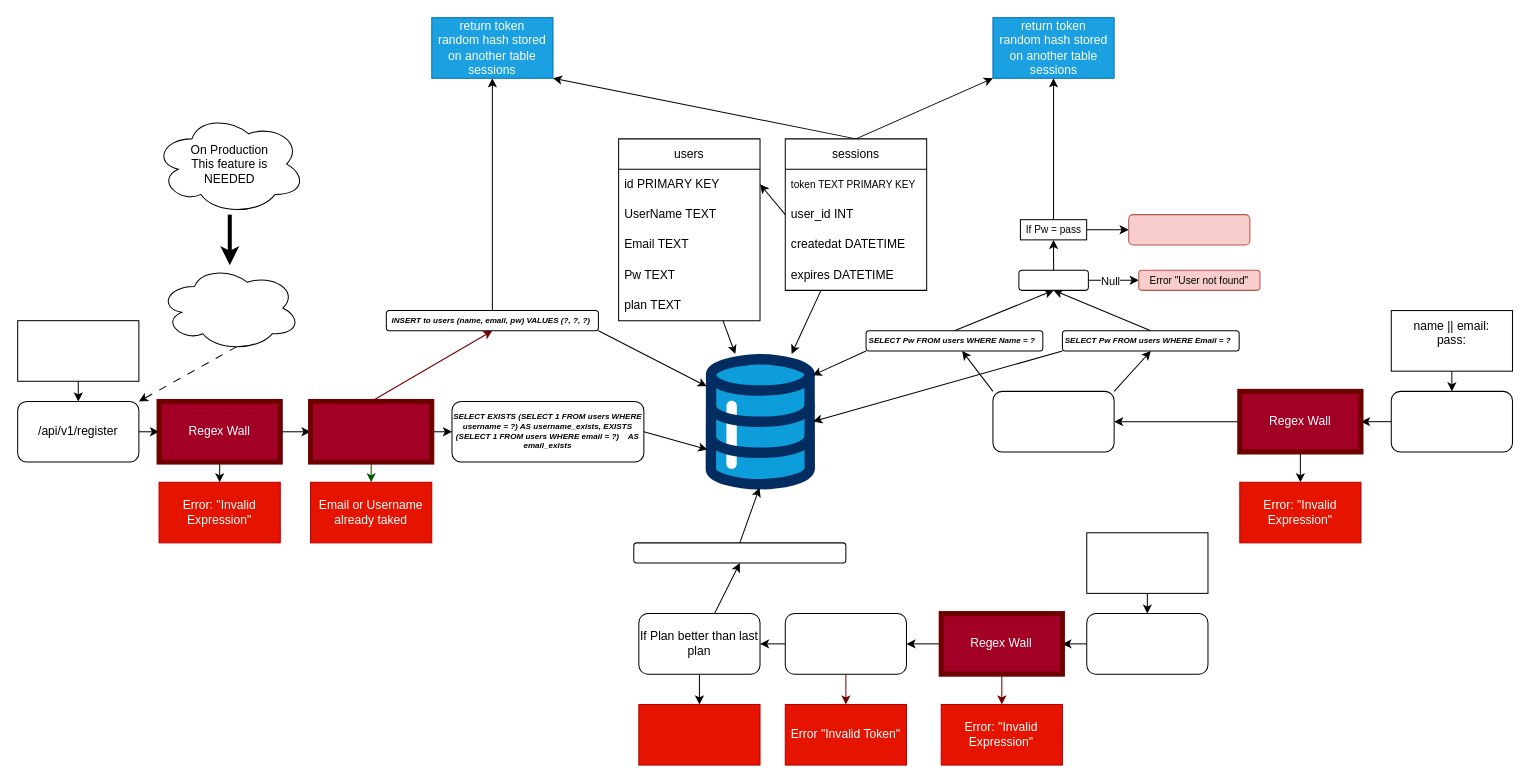
This 1530x783 diagram has some shape labels left out. Each missing label, with the centre of its shape:
/api/v1/login: point 1451,421
/api/v1/plan/buy: point 1147,643
Check email && username: point 371,431
Error "Email Or PassWord is wrong": point 1189,229
Error "You Cannot Downgrade your plan": point 699,734
If input is Email: point 1053,421
If token valid: point 845,643
name: email: pass:: point 78,350
Register could be better using email verification: point 229,307
Response: point 1053,279
UPDATE users SET plan = ? WHERE Username = ?: point 739,552
